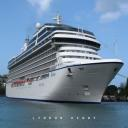cruises: (6, 10, 125, 108)
